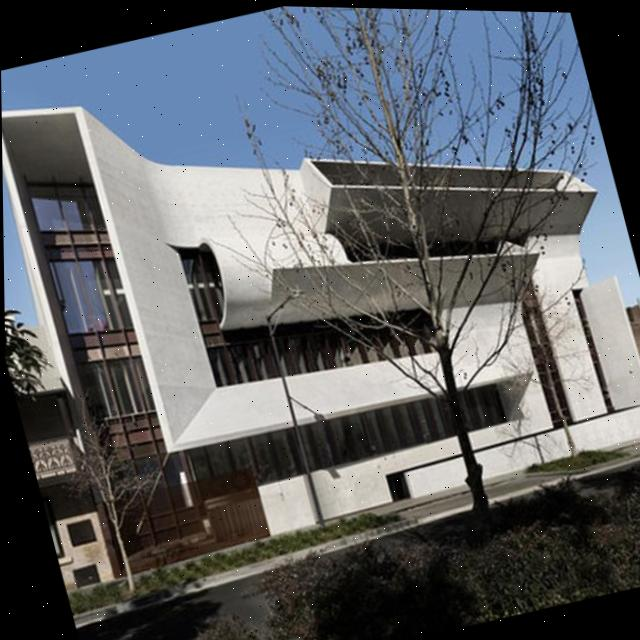building: (0, 0, 640, 594)
